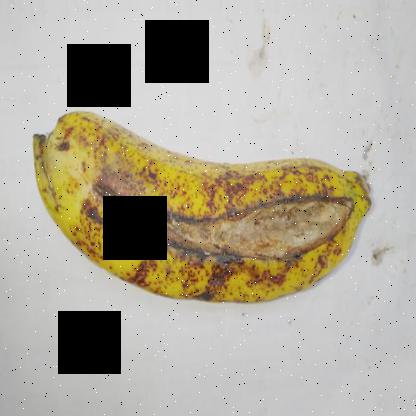rotten: (94, 182, 344, 296)
